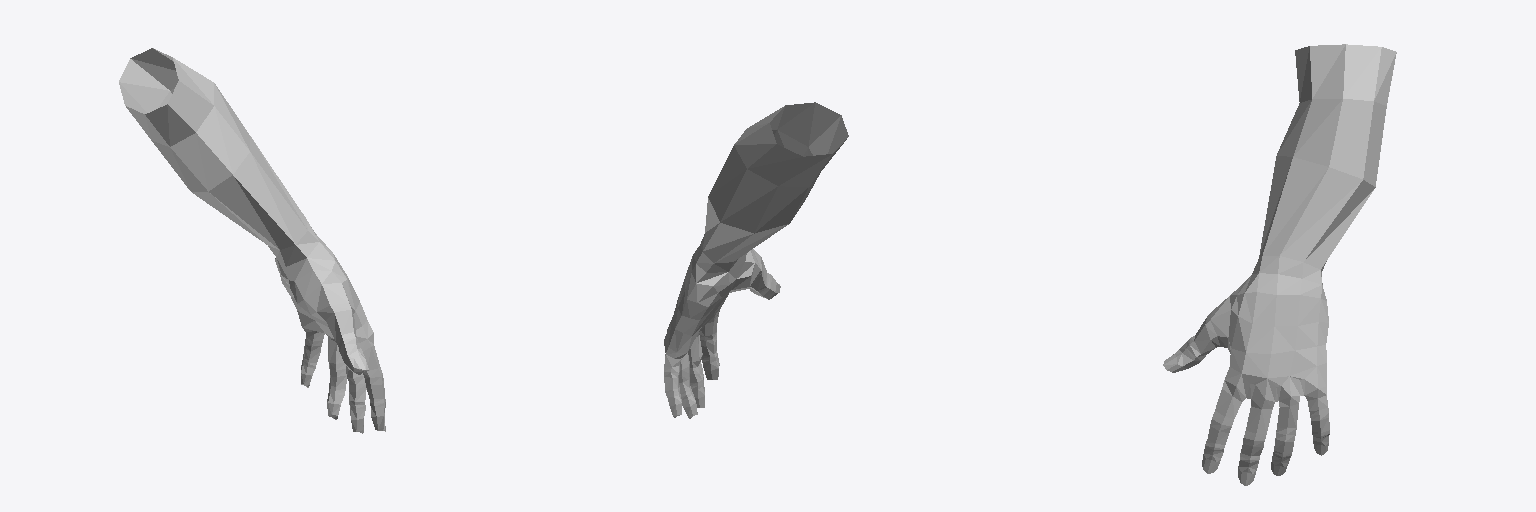
Rendered from oUpperArmL.obj.
3 views of the same model, side by side, from view 1: azimuth 30°, elevation 25°; view 2: azimuth 150°, elevation 25°; view 3: azimuth 270°, elevation 25° (orthographic).
Visible parts, largest first — view 1: Base.001_Cylinder.001; view 2: Base.001_Cylinder.001; view 3: Base.001_Cylinder.001.
Boxes of the visible parts, x1=… form: Base.001_Cylinder.001: x1=119, y1=48, x2=385, y2=433; Base.001_Cylinder.001: x1=664, y1=102, x2=848, y2=418; Base.001_Cylinder.001: x1=1163, y1=44, x2=1396, y2=485.
Size of the model in its own units: 0.3809 by 0.694 by 0.3932.